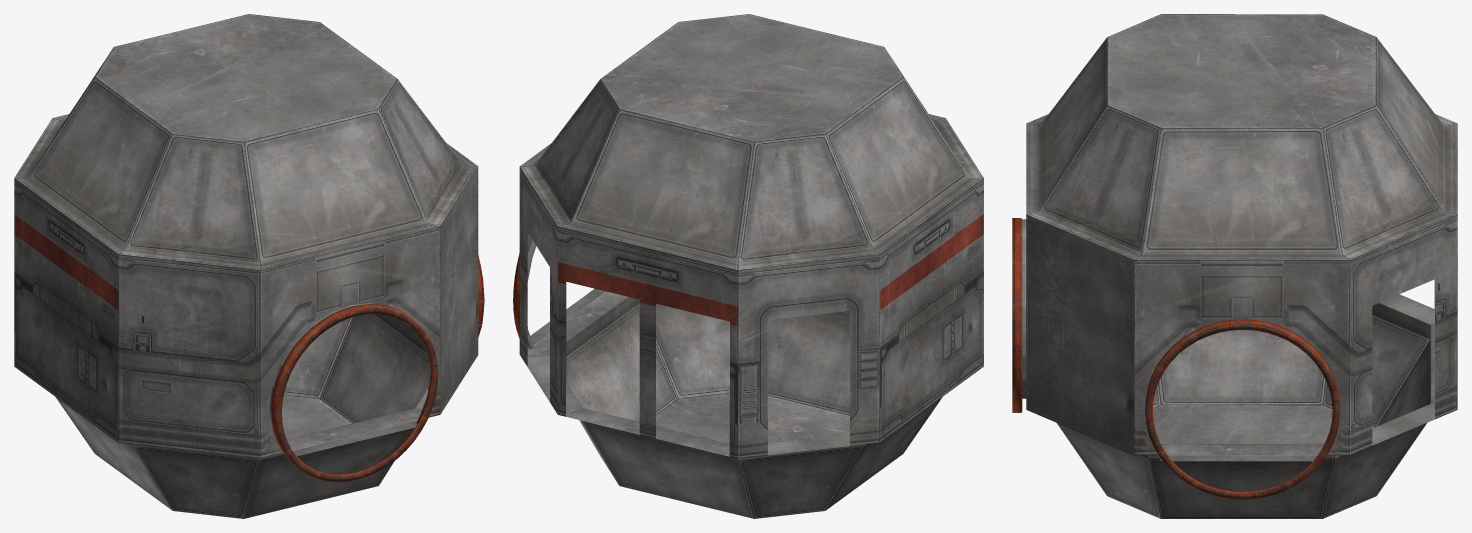
File: tau_8sided_room_divingroom_2door02.dae
The picture shows the model from 3 angles, left to right: view 1: azimuth 30°, elevation 25°; view 2: azimuth 150°, elevation 25°; view 3: azimuth 270°, elevation 25°; orthographic projection. The views are drawn at different scales.
Parts seen in each view (by area): view 1: tau_8sided_room_2doors_polySurface374, pPipe70, polySurface387; view 2: tau_8sided_room_2doors_polySurface374, polySurface385; view 3: tau_8sided_room_2doors_polySurface374, pPipe69, pPipe70, polySurface385, polySurface387.
Part boxes in pixels (left/top/right/bottom): tau_8sided_room_2doors_polySurface374: left=14, top=14, right=478, bottom=518; pPipe70: left=271, top=304, right=438, bottom=481; polySurface387: left=269, top=303, right=430, bottom=456; tau_8sided_room_2doors_polySurface374: left=519, top=14, right=983, bottom=518; polySurface385: left=527, top=240, right=605, bottom=348; tau_8sided_room_2doors_polySurface374: left=1026, top=14, right=1457, bottom=518; pPipe69: left=1145, top=319, right=1340, bottom=499; pPipe70: left=1012, top=218, right=1022, bottom=412; polySurface385: left=1145, top=319, right=1334, bottom=461; polySurface387: left=1021, top=219, right=1026, bottom=398.
Bounding box in the file's own units: 8.26 × 8 × 8.26.
